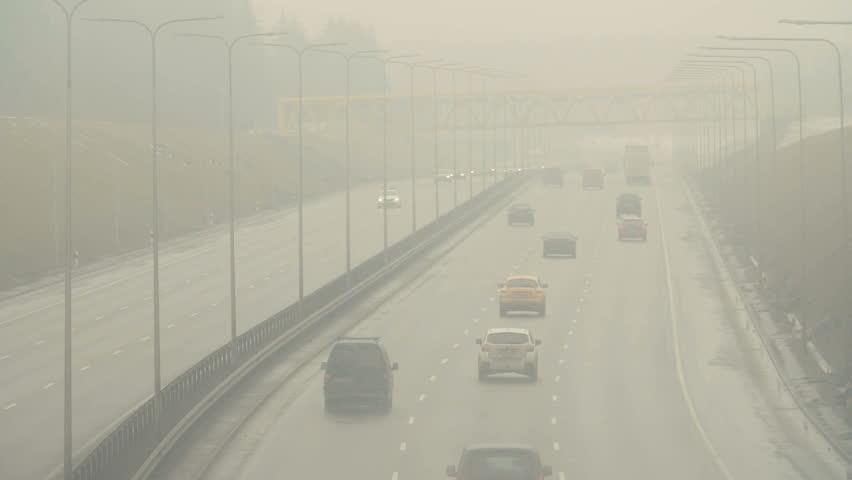car: (319, 334, 400, 415), (443, 443, 553, 480), (473, 326, 541, 383), (496, 275, 550, 317), (621, 144, 655, 187), (540, 229, 578, 258), (616, 212, 646, 242), (505, 202, 537, 226), (614, 193, 644, 218), (580, 168, 605, 190), (375, 189, 402, 208), (540, 167, 564, 188), (433, 168, 454, 183)
